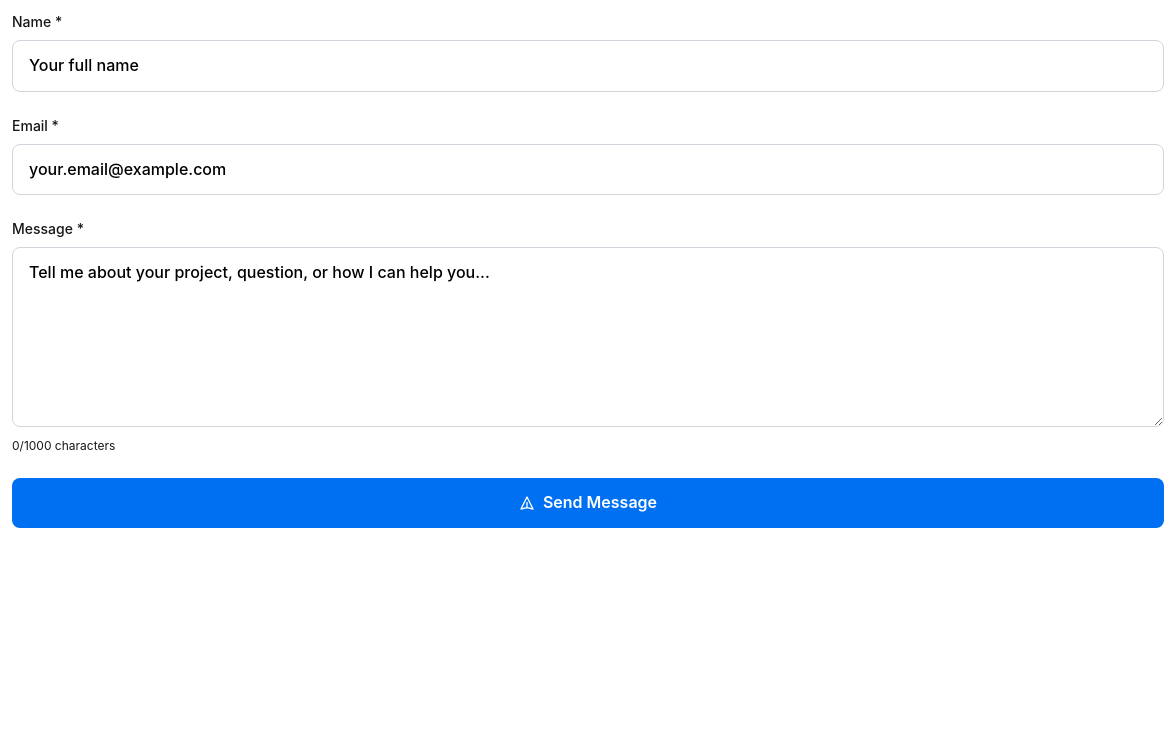
Test: Contact Form Property Tests › should successfully submit valid form data
Expected: the field named "email" is shown, [12, 144, 1164, 195]
Expected: the text box named "message" is shown, [12, 247, 1164, 427]
Note: Use userEvent for proper React state updates
Type "John Doe" into the field named "name".
click(588, 66); type("John Doe")  # box [12, 40, 1164, 92]
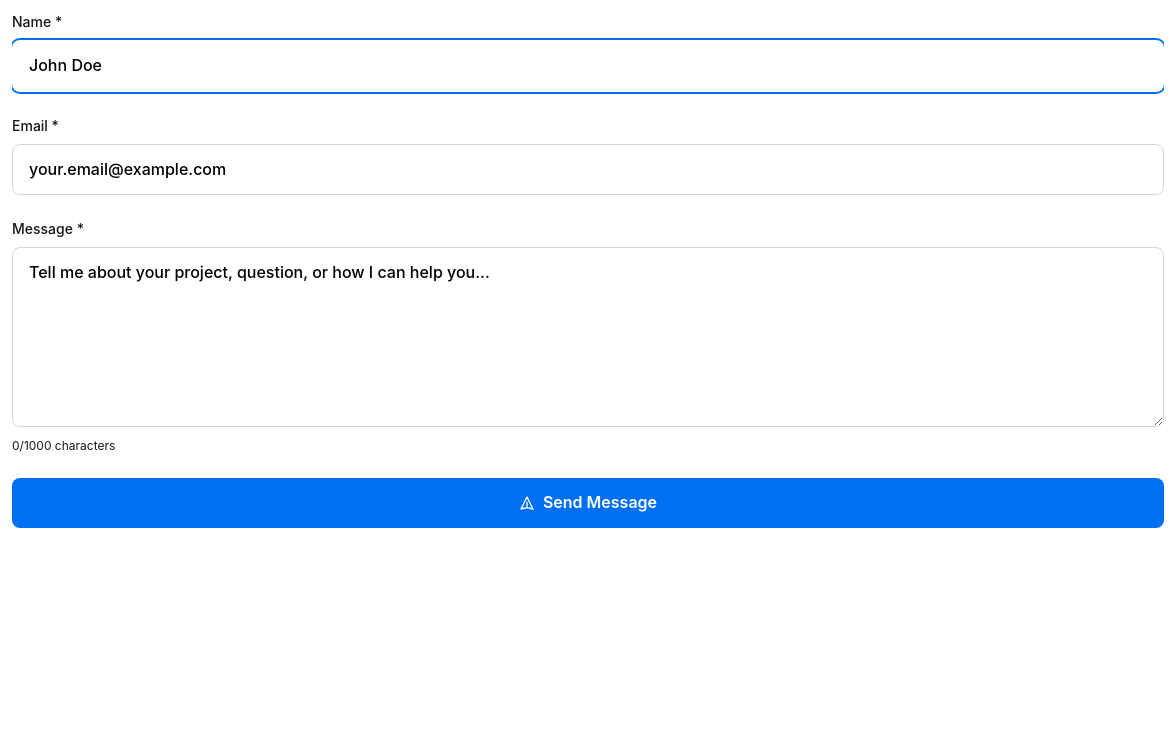
Type "john@example.com" into the field named "email".
click(588, 169); type("john@example.com")  # box [12, 144, 1164, 195]
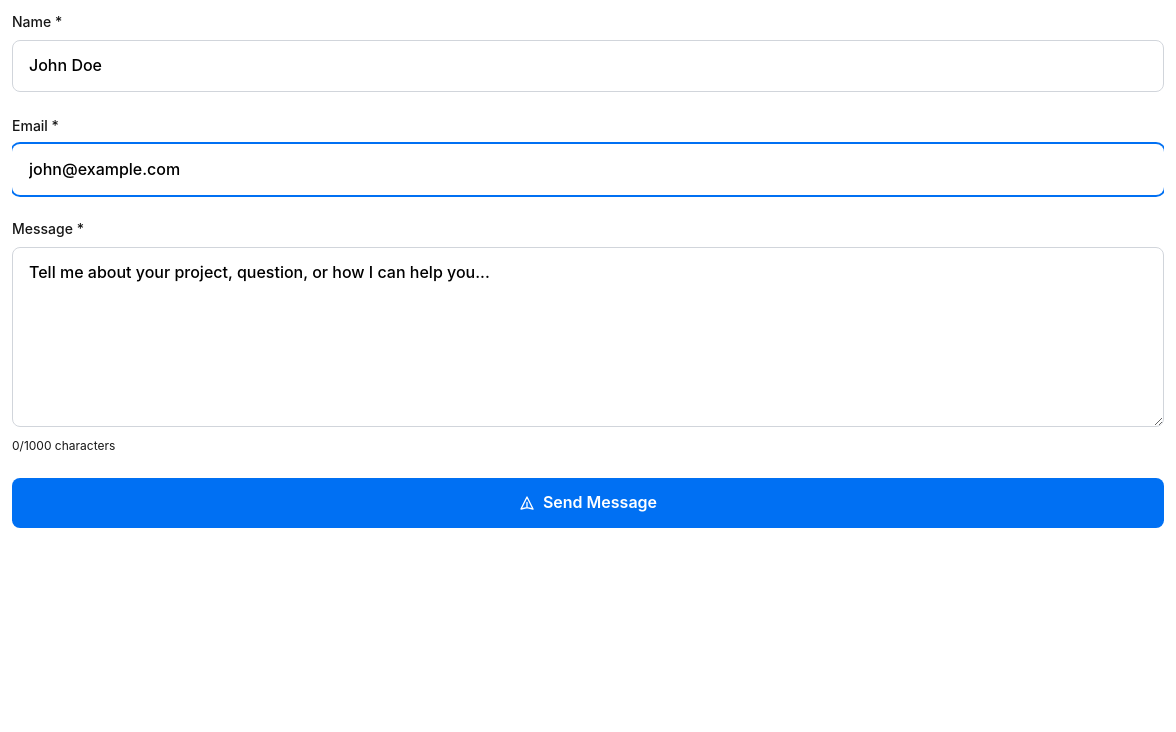
Type "This is a test message that is long enough to pass validation." into the text box named "message".
click(588, 337); type("This is a test message that is long enough to pass validation.")  # box [12, 247, 1164, 427]
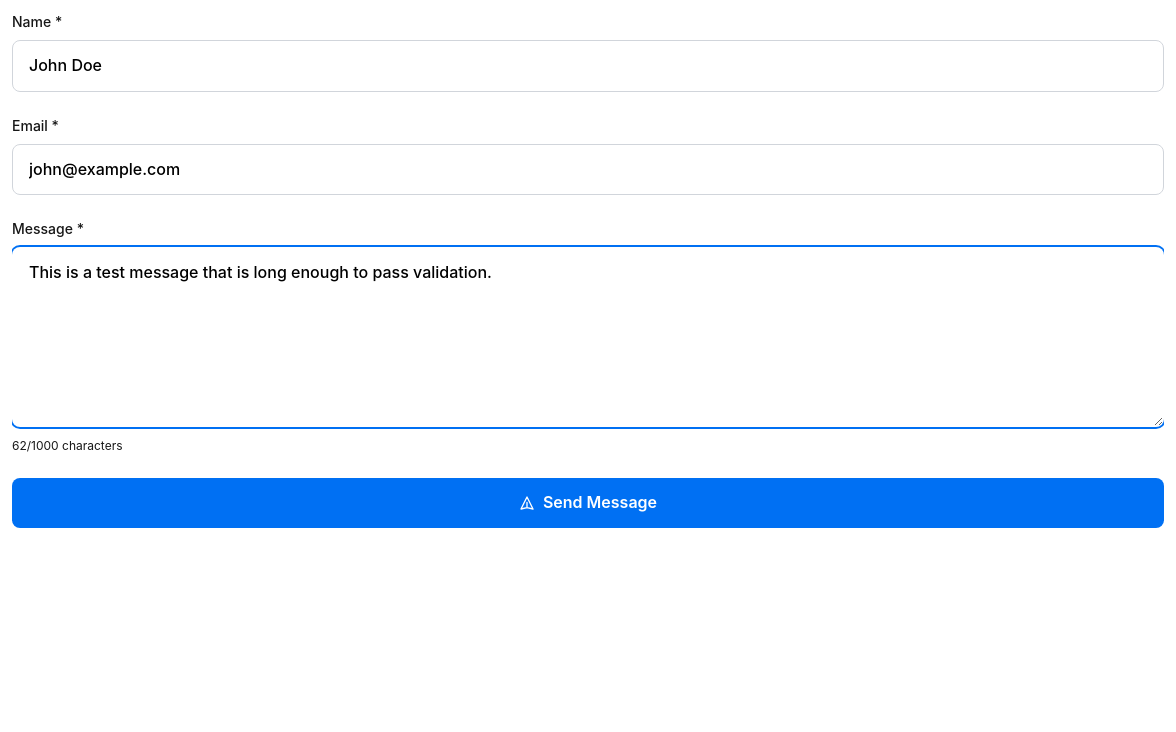
Note: Submit the form
Click the submit button.
click(588, 503)  # box [12, 478, 1164, 528]
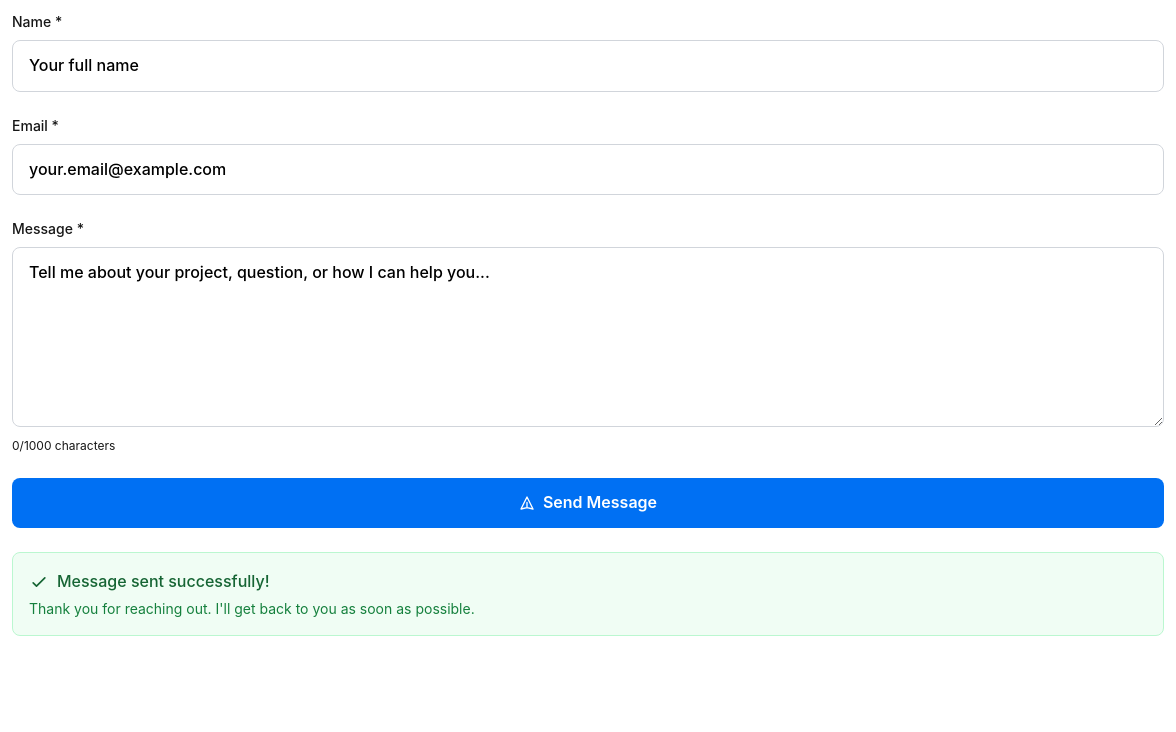
Expected: the text "Message sent successfully!" is shown, [57, 569, 270, 594]
Expected: the field named "name" is empty, [12, 40, 1164, 92]
Expected: the field named "email" is empty, [12, 144, 1164, 195]
